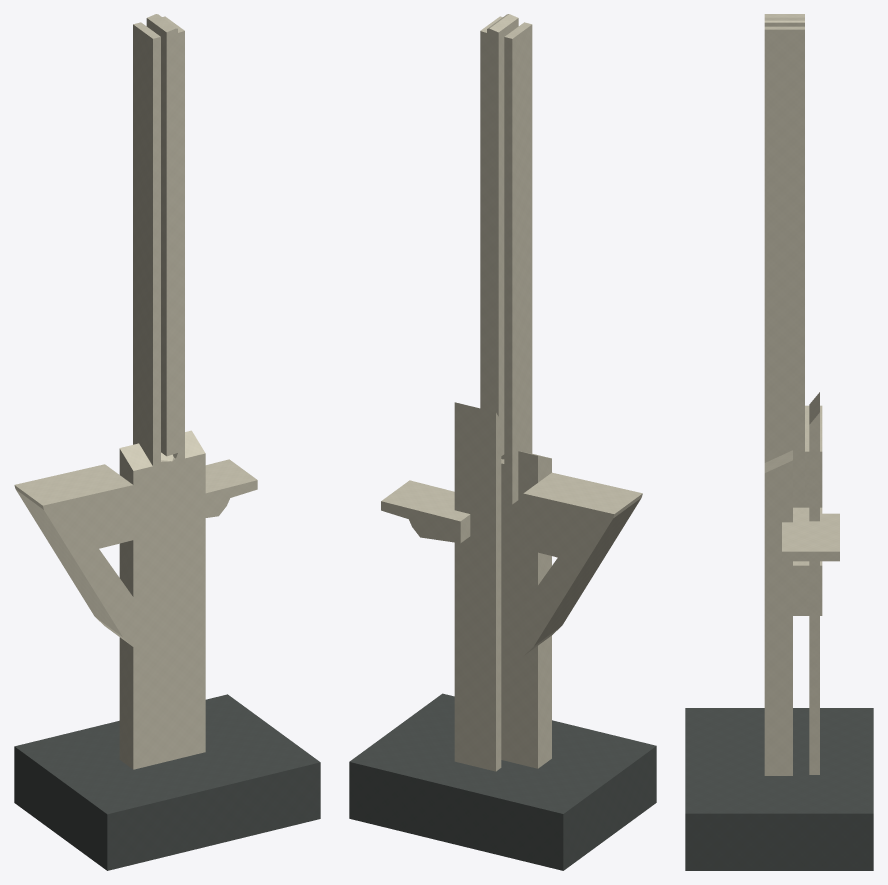
File: obelisco-italianos.glb
3 views of the same model, side by side, from view 1: azimuth 30°, elevation 25°; view 2: azimuth 150°, elevation 25°; view 3: azimuth 270°, elevation 25° (orthographic).
Parts seen in each view (by area): view 1: Representacion generada; view 2: Representacion generada; view 3: Representacion generada.
Part boxes in pixels (x1,y1,x2,y2): Representacion generada: (14, 14, 320, 870); Representacion generada: (349, 14, 656, 870); Representacion generada: (685, 14, 873, 870).
Bounding box in the file's own units: 8.88 × 28 × 5.99.
Materials: 1 (1 with a texture image).
